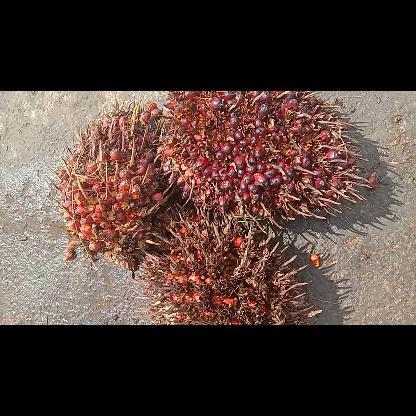TBS masak: (156, 90, 370, 233), (50, 96, 178, 268)
Terlalu masak: (132, 204, 322, 324)
